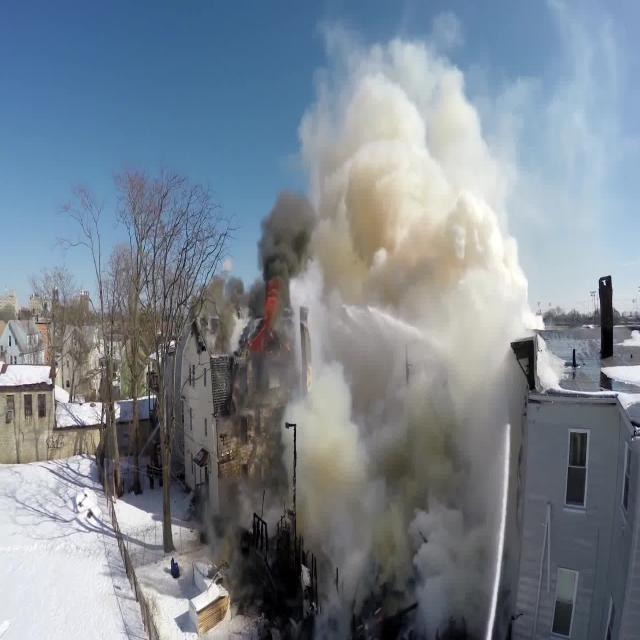Fire: (247, 268, 297, 362)
Smoke: (174, 13, 528, 639)
